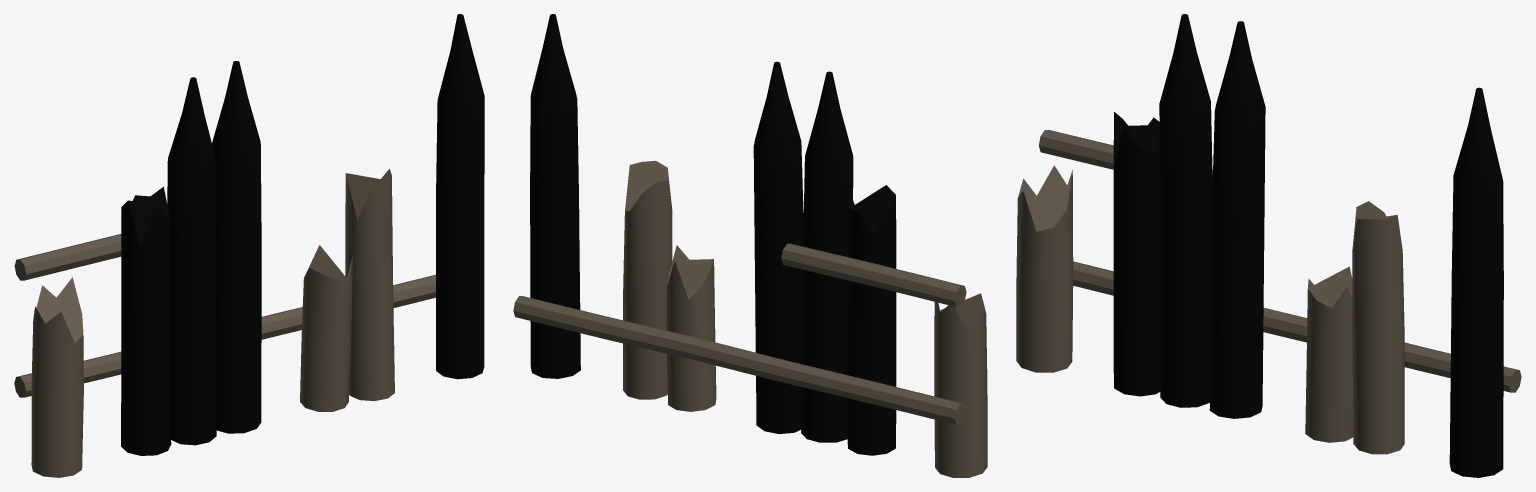
The model's file is bruestung_holz_15_2m_kaputt.glb.
The picture shows the model from 3 angles, left to right: view 1: azimuth 30°, elevation 25°; view 2: azimuth 150°, elevation 25°; view 3: azimuth 330°, elevation 25°; orthographic projection. The views are drawn at different scales.
Visible parts, largest first — view 1: bruestung_holz_15_2m_kaputt; view 2: bruestung_holz_15_2m_kaputt; view 3: bruestung_holz_15_2m_kaputt.
Boxes of the visible parts, x1,y1,x2,y2 form: bruestung_holz_15_2m_kaputt: [14, 14, 484, 477]; bruestung_holz_15_2m_kaputt: [513, 14, 987, 477]; bruestung_holz_15_2m_kaputt: [1016, 14, 1521, 477].
Bounding box in the file's own units: 2 × 1.54 × 0.2956.
